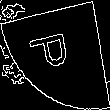P_E: (30, 32, 80, 78)
